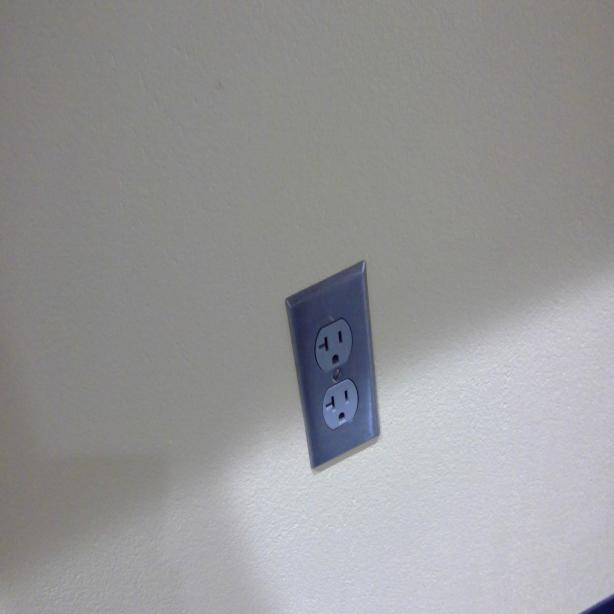typeb: (315, 321, 354, 375), (323, 385, 358, 423)
